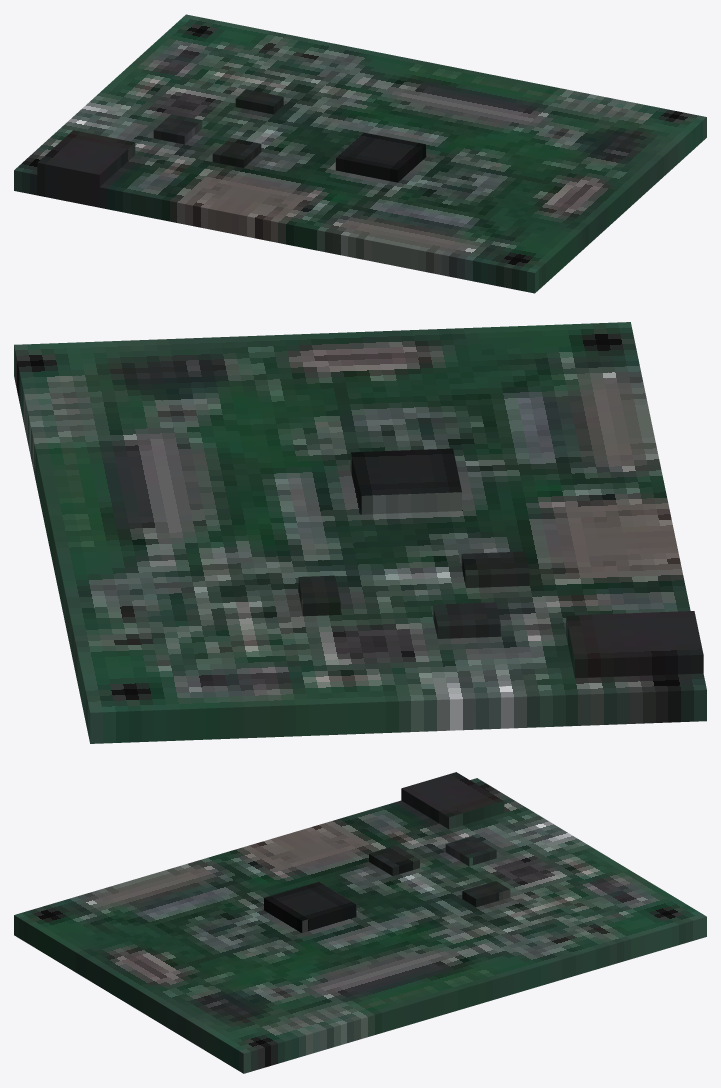
File: pcb_2.glb
3 renders of one model, top to bottom at view 1: azimuth 30°, elevation 25°; view 2: azimuth 150°, elevation 25°; view 3: azimuth 270°, elevation 25°, orthographic. The views are drawn at different scales.
Visible parts, largest first — view 1: pcb_2; view 2: pcb_2; view 3: pcb_2.
Part boxes in pixels (x1=…): pcb_2: x1=14, y1=14, x2=706, y2=293; pcb_2: x1=14, y1=322, x2=706, y2=743; pcb_2: x1=14, y1=772, x2=706, y2=1073.
Size of the model in its own units: 0.1466 by 0.008 by 0.1557.
Materials: 1 (1 with a texture image).
